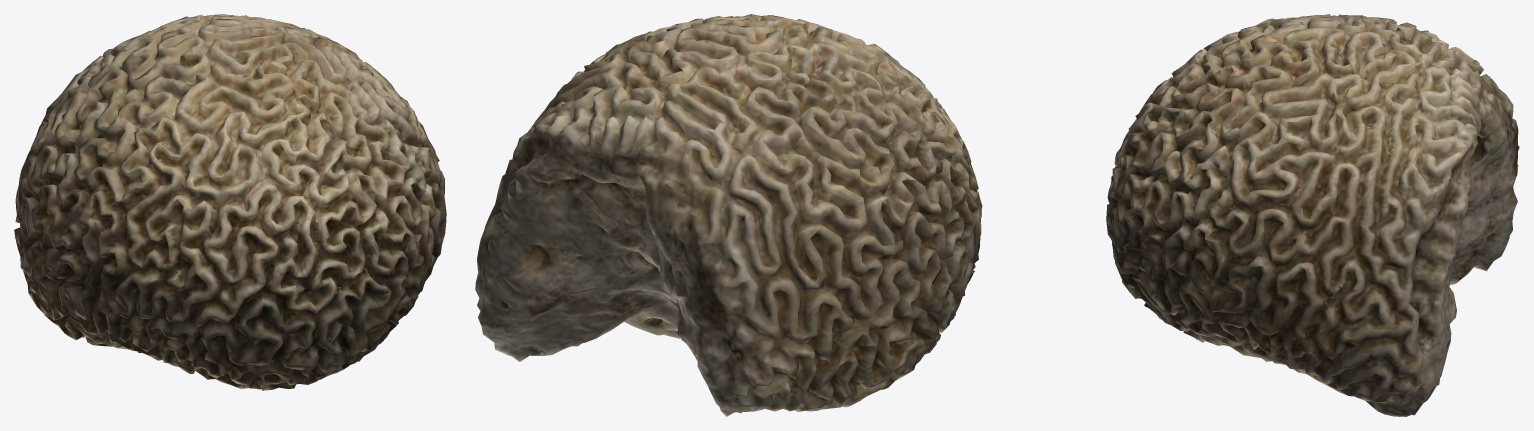
File: pseudodiploria.glb
3 views of the same model, side by side, from view 1: azimuth 30°, elevation 25°; view 2: azimuth 150°, elevation 25°; view 3: azimuth 270°, elevation 25° (orthographic). The views are drawn at different scales.
Bounding box in the file's own units: 188 × 132 × 163.
Materials: 1 (1 with a texture image).
